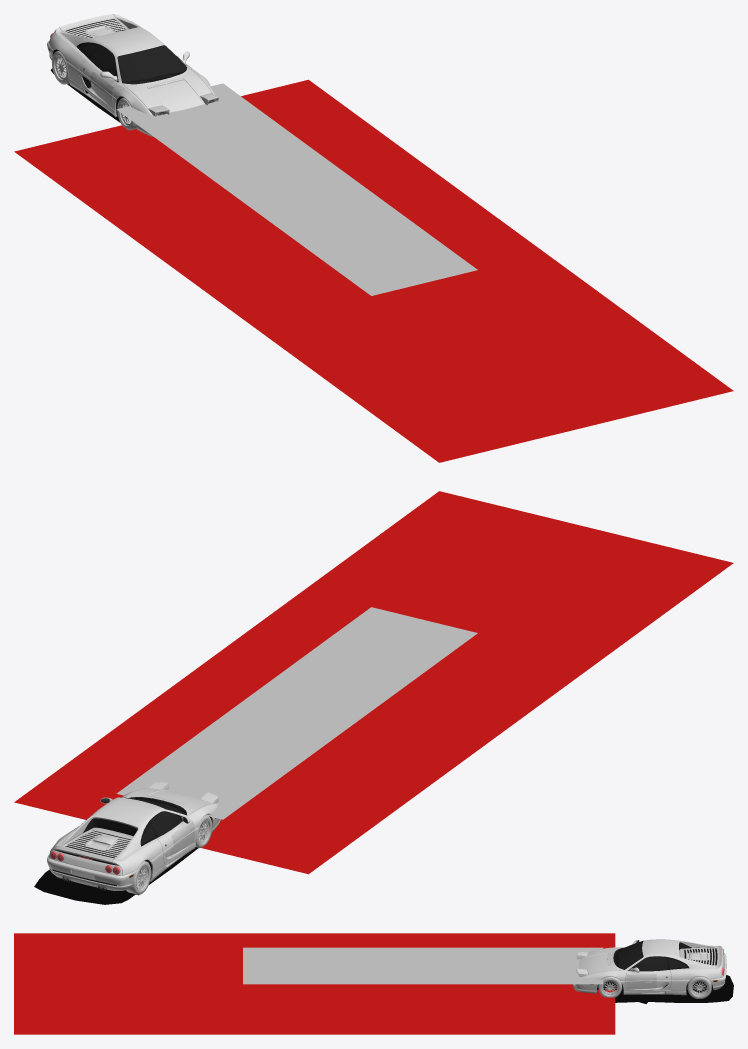
Rendered from car29.fbx.
3 renders of one model, top to bottom at view 1: azimuth 30°, elevation 25°; view 2: azimuth 150°, elevation 25°; view 3: azimuth 270°, elevation 25°, orthographic. The views are drawn at different scales.
Parts seen in each view (by area): view 1: light_ground, far_lights, f355_v3; view 2: light_ground, far_lights, f355_v3, shadow_car; view 3: light_ground, far_lights, f355_v3, shadow_car, decalSide, wheel_RL, wheel_FL.
Boxes of the visible parts, box(x1,y1,x2,y2) form: light_ground: box(14, 79, 733, 462); far_lights: box(116, 83, 477, 295); f355_v3: box(47, 14, 218, 136); light_ground: box(14, 491, 733, 874); far_lights: box(116, 607, 477, 819); f355_v3: box(47, 781, 220, 890); shadow_car: box(34, 847, 198, 904); light_ground: box(14, 933, 615, 1034); far_lights: box(243, 947, 603, 984); f355_v3: box(572, 939, 726, 995); shadow_car: box(615, 975, 733, 1003); decalSide: box(626, 973, 656, 989); wheel_RL: box(687, 976, 711, 998); wheel_FL: box(598, 976, 621, 997).
Bounding box in the file's own units: 45.83 × 8.18 × 137.
